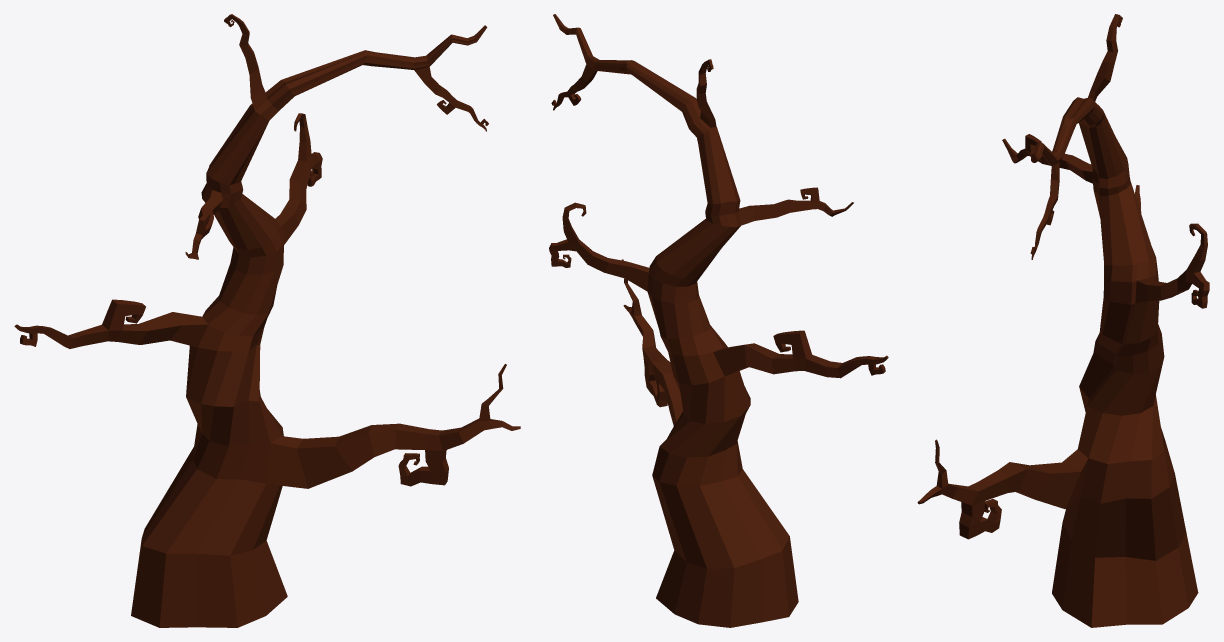
The model's file is DeadTree.fbx.
The picture shows the model from 3 angles, left to right: view 1: azimuth 30°, elevation 25°; view 2: azimuth 150°, elevation 25°; view 3: azimuth 270°, elevation 25°; orthographic projection. The views are drawn at different scales.
Visible parts, largest first — view 1: Tree; view 2: Tree; view 3: Tree.
Boxes of the visible parts, x1,y1,x2,y2 form: Tree: (14, 14, 520, 627); Tree: (549, 14, 888, 627); Tree: (917, 14, 1209, 627).
Size of the model in its own units: 789 by 1044 by 467.
